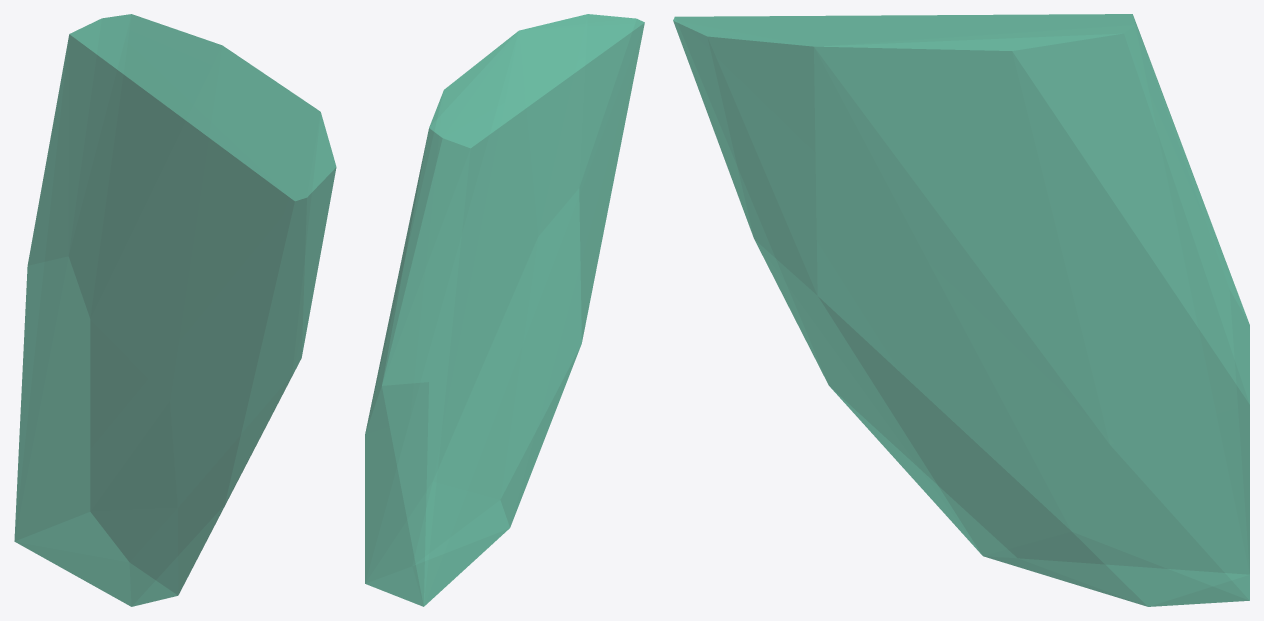
The picture shows the model from 3 angles, left to right: view 1: azimuth 30°, elevation 25°; view 2: azimuth 150°, elevation 25°; view 3: azimuth 270°, elevation 25°; orthographic projection. The views are drawn at different scales.
Visible parts, largest first — view 1: Shape_IndexedFaceSet.069_Shape_IndexedFaceSet.9590; view 2: Shape_IndexedFaceSet.069_Shape_IndexedFaceSet.9590; view 3: Shape_IndexedFaceSet.069_Shape_IndexedFaceSet.9590.
Part boxes in pixels (left/top/right/bottom): Shape_IndexedFaceSet.069_Shape_IndexedFaceSet.9590: left=14, top=14, right=336, bottom=606; Shape_IndexedFaceSet.069_Shape_IndexedFaceSet.9590: left=365, top=14, right=644, bottom=606; Shape_IndexedFaceSet.069_Shape_IndexedFaceSet.9590: left=673, top=14, right=1249, bottom=606.
Bounding box in the file's own units: 0.0576 × 0.328 × 0.2989.
